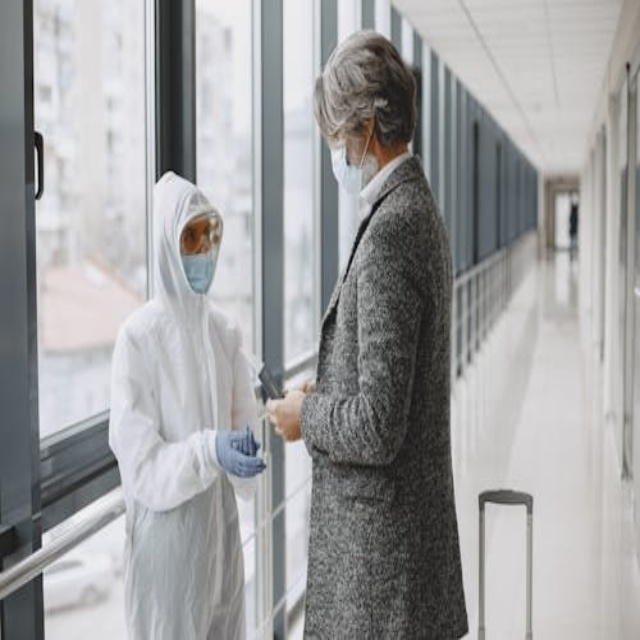Gafas: (330, 122, 372, 174), (181, 218, 221, 255)
Guantes: (214, 421, 262, 480)
Mascara: (332, 124, 377, 197), (182, 248, 217, 295)
Sin_guantes: (265, 387, 305, 442)
